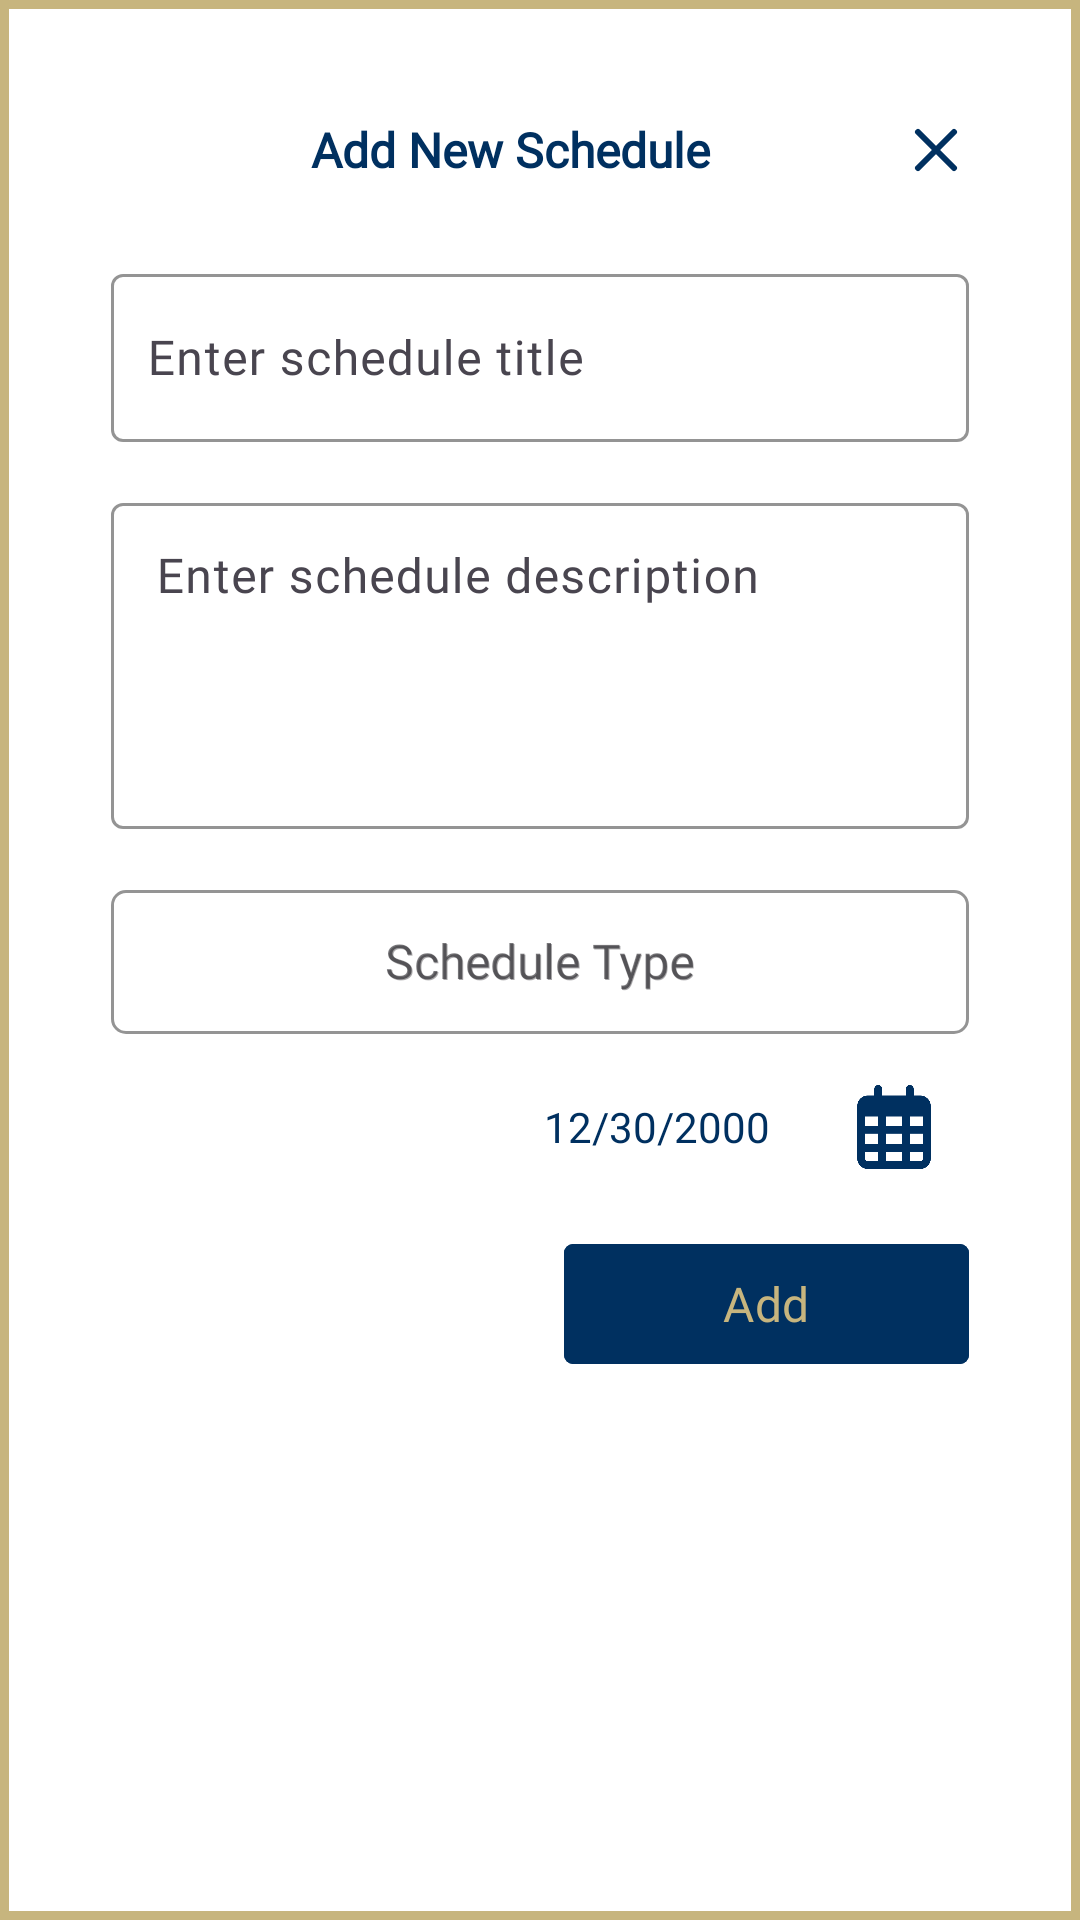

Named icons in this screenshot (1080 x 1920) and their bounding boxes, (x1,y1,x2,y2):
Close: (915,129,957,171)
date: (857,1085,931,1169)
